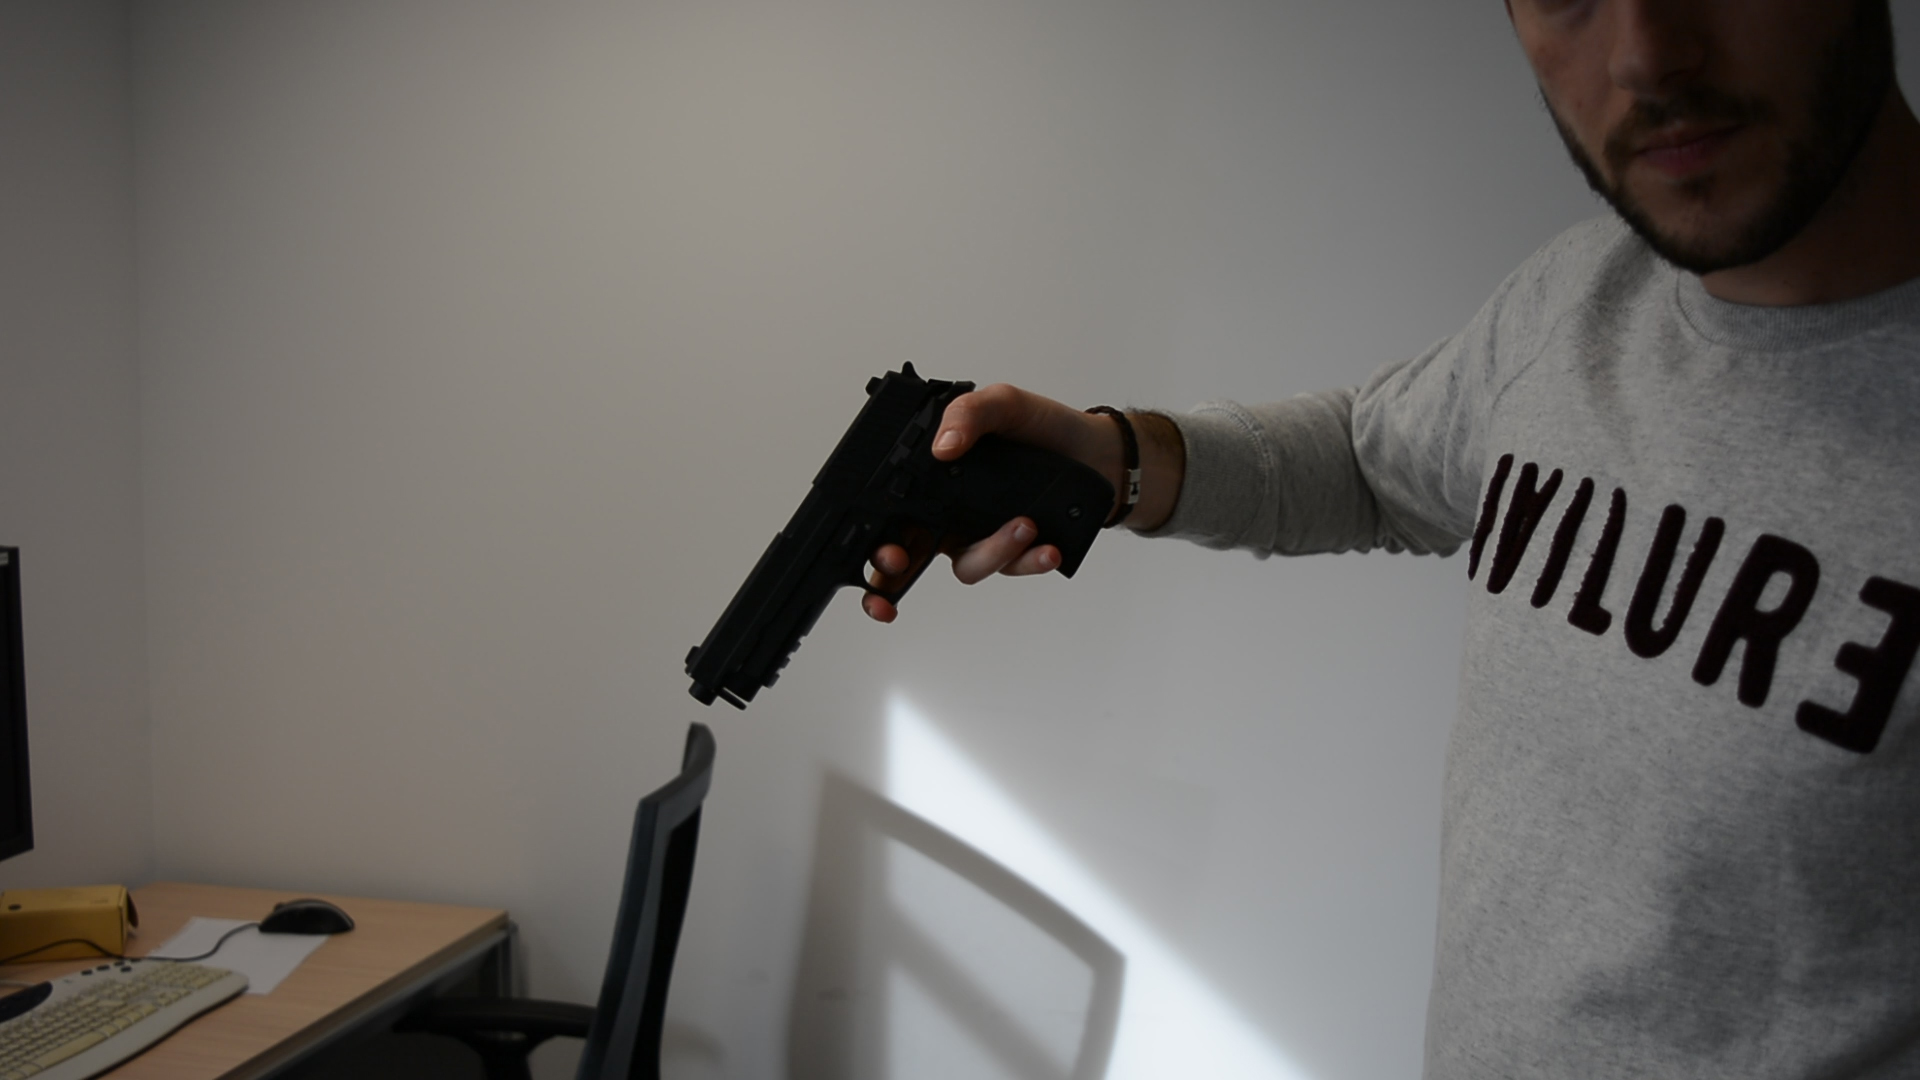pistol: (680, 357, 1120, 713)
